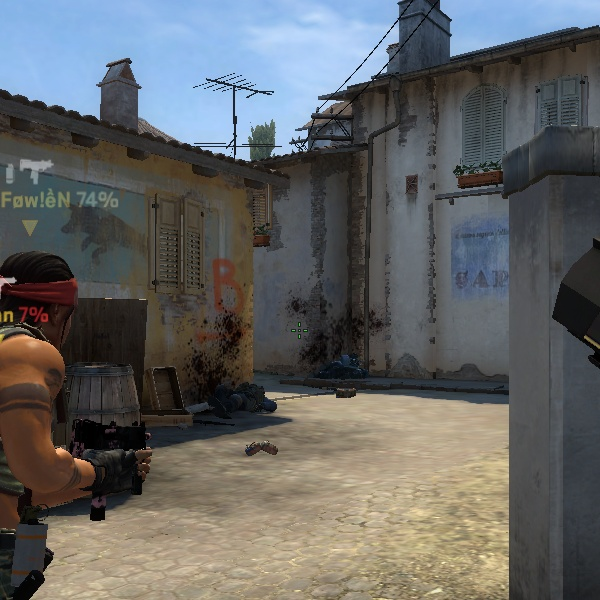t_body: (0, 232, 155, 590)
t_head: (0, 241, 93, 352)
